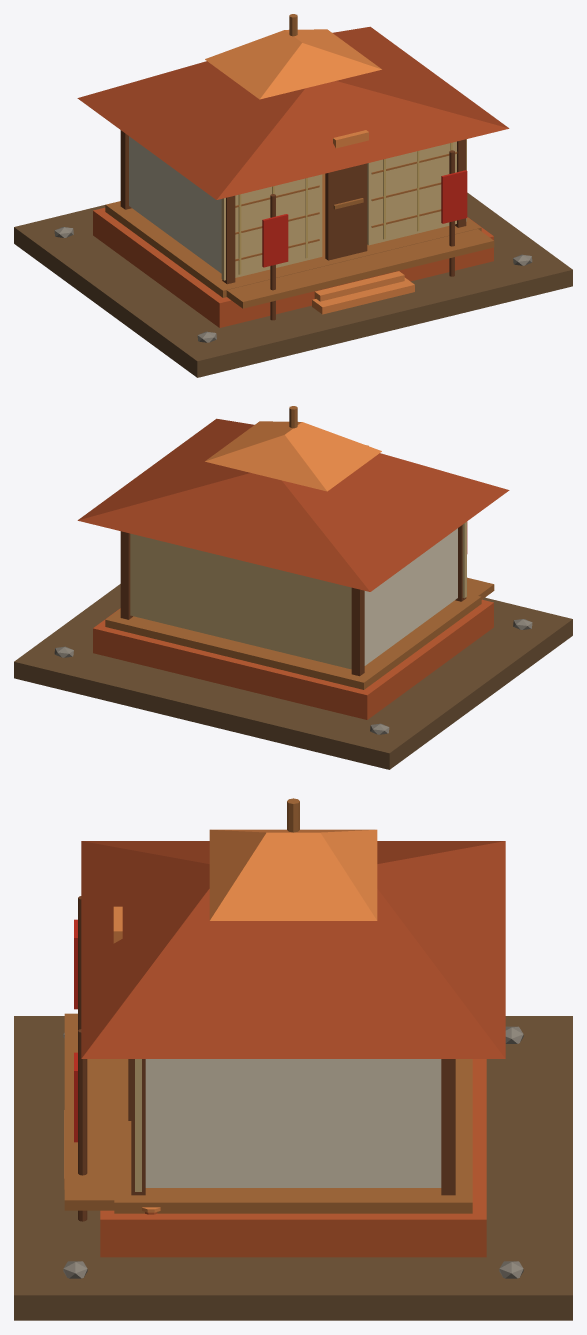
File: village_head_house.glb
The picture shows the model from 3 angles, top to bottom: view 1: azimuth 30°, elevation 25°; view 2: azimuth 150°, elevation 25°; view 3: azimuth 270°, elevation 25°; orthographic projection. The views are drawn at different scales.
Parts seen in each view (by area): view 1: HeadHouseRoof, Building_Base, HeadHouseUpperRoof, HeadHousePlatform, HeadHouseSideWall, HeadHouseFrontPanel.001, HeadHousePorch, HeadHouseFrontPanel, HeadHouseFloor, HeadHouseDoor, BrickStep, VillageBanner (+4 smaller); view 2: HeadHouseRoof, Building_Base, HeadHouseRearPanel, HeadHousePlatform, HeadHouseUpperRoof, HeadHouseFloor, HeadHouseSideWall, HeadHousePost.001, HeadHousePost.003; view 3: HeadHouseRoof, Building_Base, HeadHouseSideWall.001, HeadHousePlatform, HeadHouseUpperRoof, HeadHouseFloor, HeadHousePorch, HeadHousePost.003, BannerPole.001, HeadHousePost.002, HeadHouseFrontPanel.001.
Part boxes in pixels (box(x1,y1,x2,y2)): HeadHouseRoof: box(77, 26, 509, 199); Building_Base: box(14, 192, 572, 377); HeadHouseUpperRoof: box(205, 29, 381, 99); HeadHousePlatform: box(93, 207, 493, 327); HeadHouseSideWall: box(129, 136, 221, 273); HeadHouseFrontPanel.001: box(367, 139, 466, 245); HeadHousePorch: box(226, 229, 494, 308); HeadHouseFrontPanel: box(221, 174, 322, 280); HeadHouseFloor: box(105, 173, 481, 297); HeadHouseDoor: box(325, 163, 367, 260); BrickStep: box(312, 277, 414, 314); VillageBanner: box(262, 214, 288, 267); HeadHouseRoof: box(77, 418, 509, 591); Building_Base: box(14, 584, 572, 769); HeadHouseRearPanel: box(130, 533, 351, 669); HeadHousePlatform: box(93, 599, 493, 719); HeadHouseUpperRoof: box(205, 421, 381, 491); HeadHouseFloor: box(105, 593, 481, 689); HeadHouseSideWall: box(364, 528, 457, 665); HeadHousePost.001: box(351, 587, 364, 676); HeadHousePost.003: box(120, 531, 132, 619); HeadHouseRoof: box(81, 841, 505, 1058); Building_Base: box(14, 1016, 572, 1320); HeadHouseSideWall.001: box(145, 1059, 441, 1187); HeadHousePlatform: box(100, 1059, 486, 1257); HeadHouseUpperRoof: box(209, 829, 377, 920); HeadHouseFloor: box(114, 1059, 472, 1213); HeadHousePorch: box(64, 1013, 114, 1210); HeadHousePost.003: box(441, 1059, 455, 1195); BannerPole.001: box(78, 1029, 87, 1221); HeadHousePost.002: box(131, 1059, 145, 1195); HeadHouseFrontPanel.001: box(135, 1059, 141, 1191).
Bounding box in the file's own units: 13 × 8.25 × 11.
